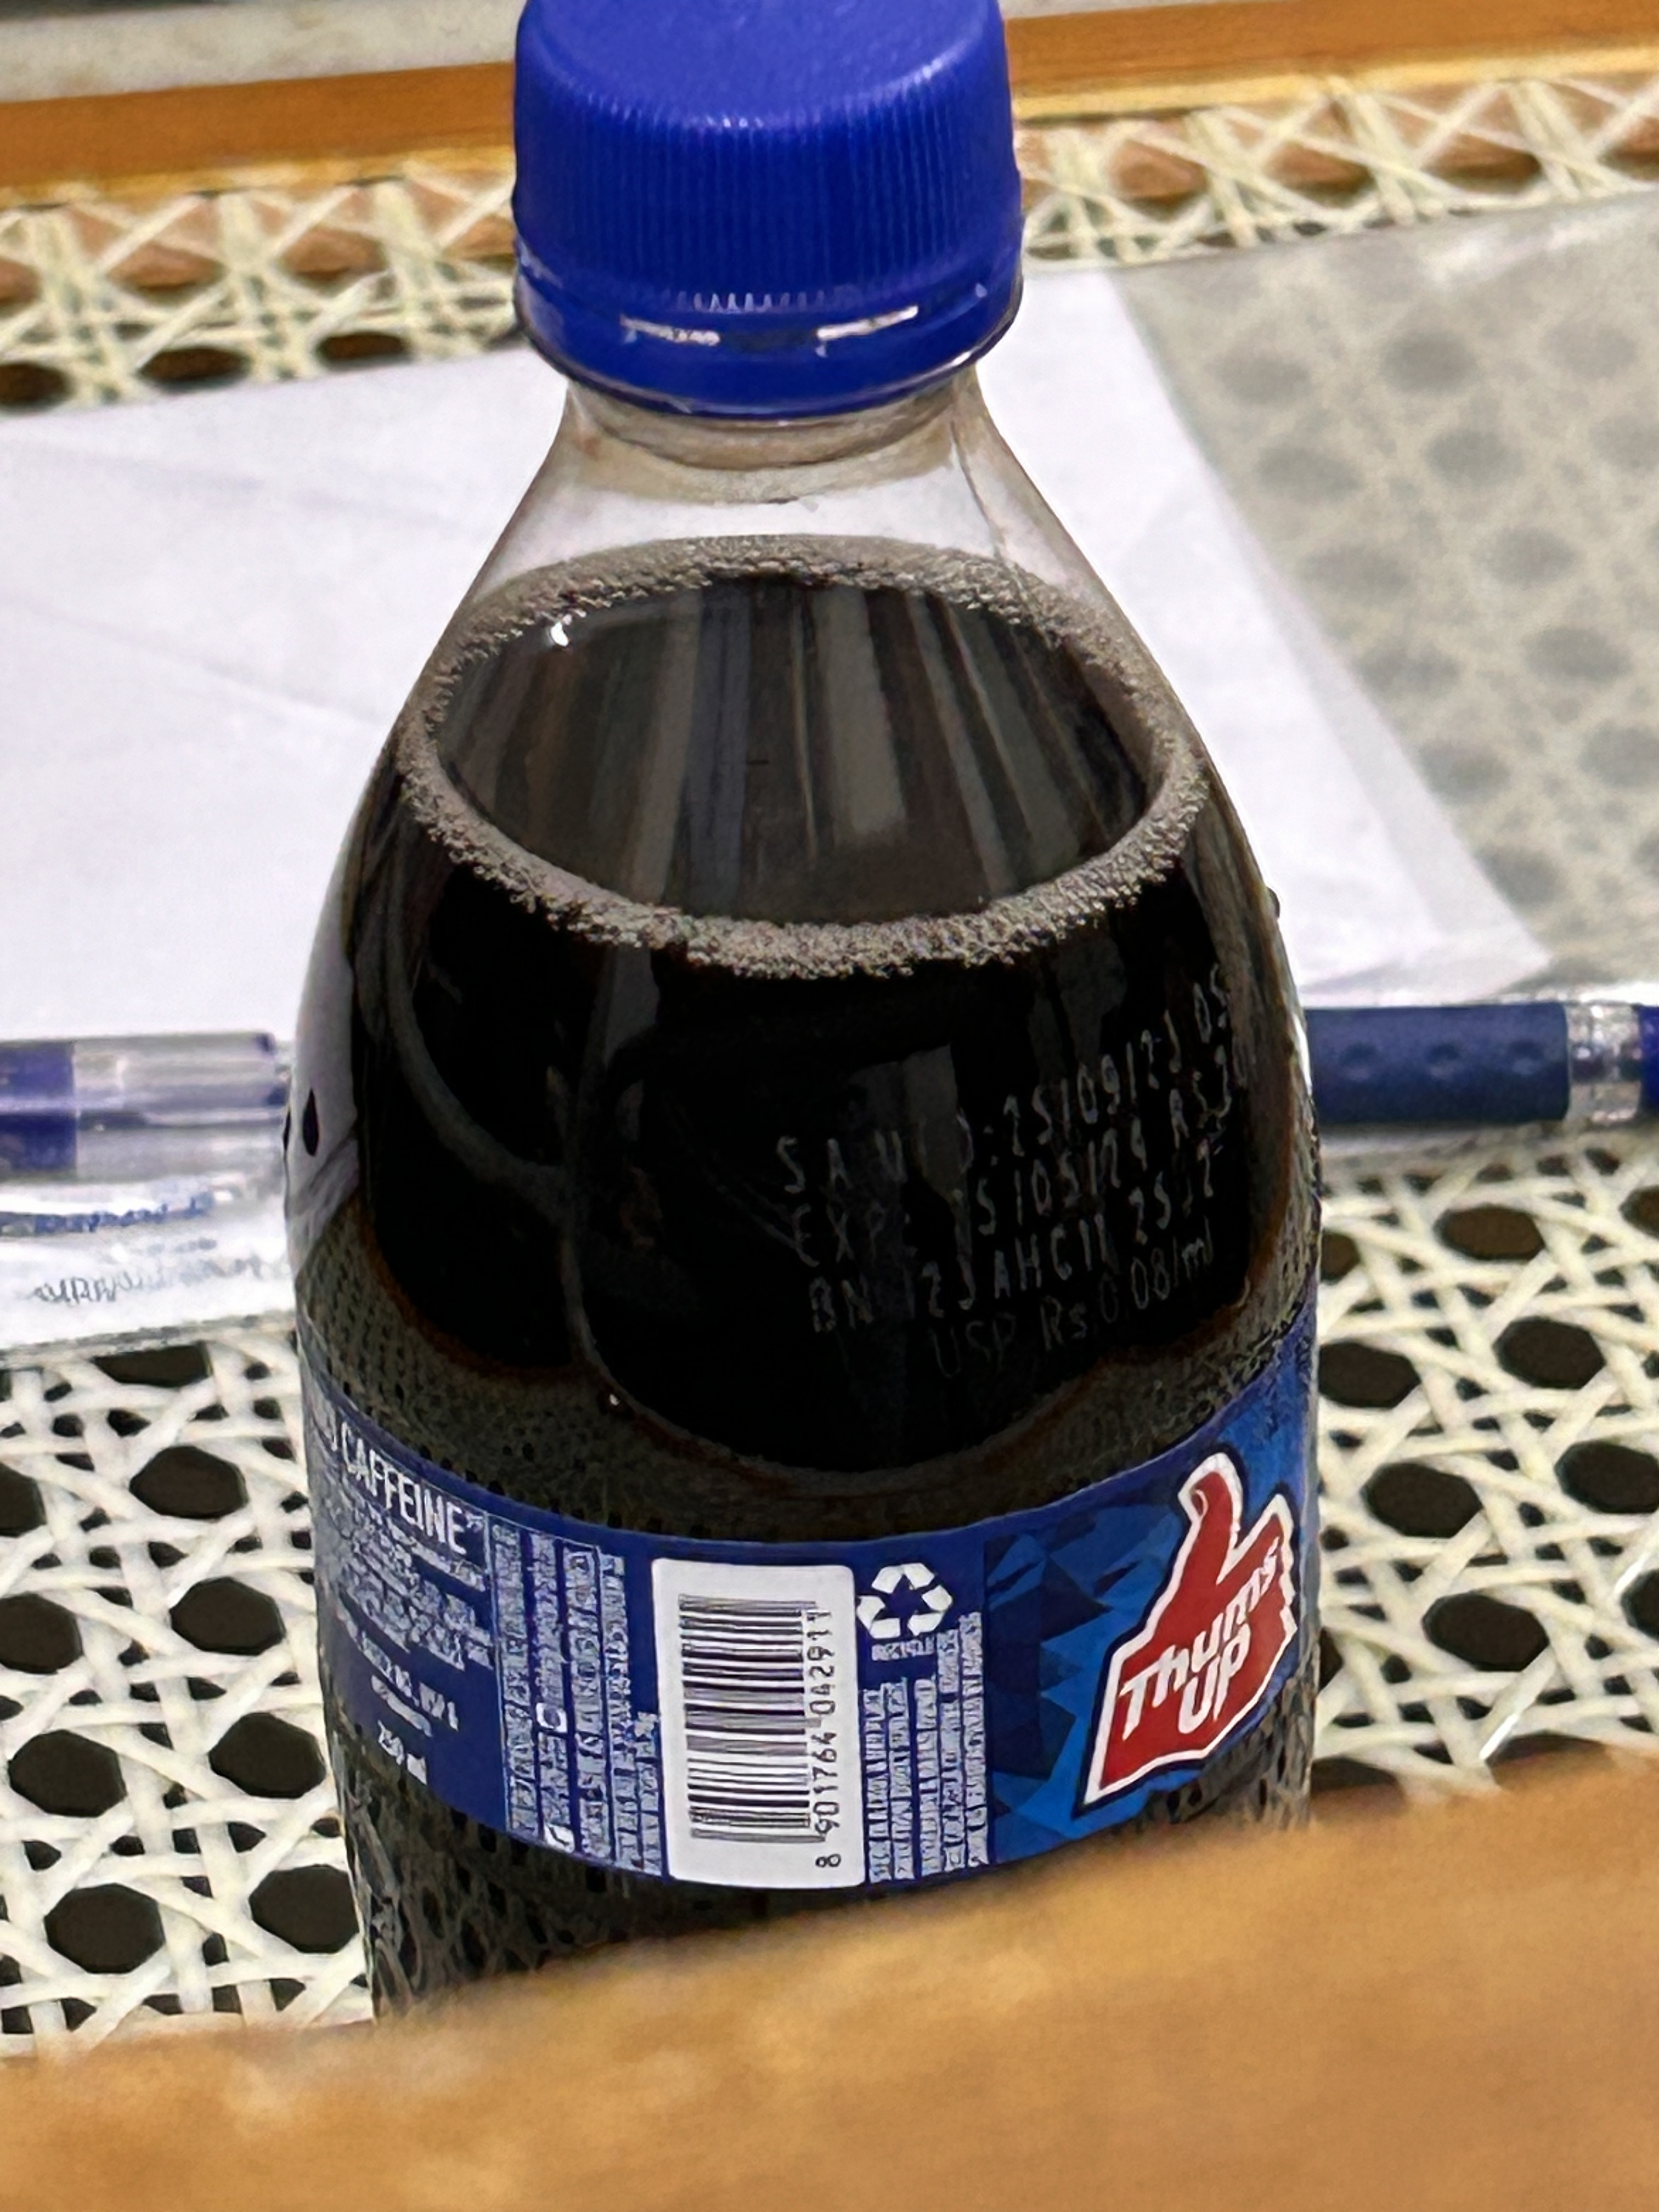unsealed: (483, 5, 1058, 430)
